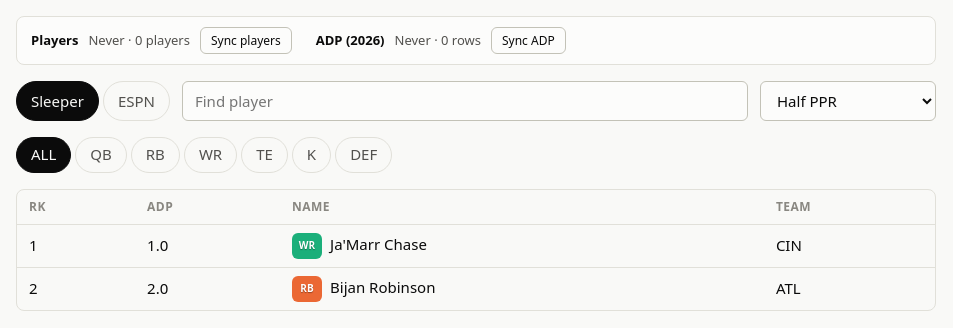
PlayersPage › filters by position client-side without refetching
Check: the text "Ja'Marr Chase" is shown, box [330,233,427,253]
Click the tab "RB". click: x=155, y=155
box: [131,137,180,173]
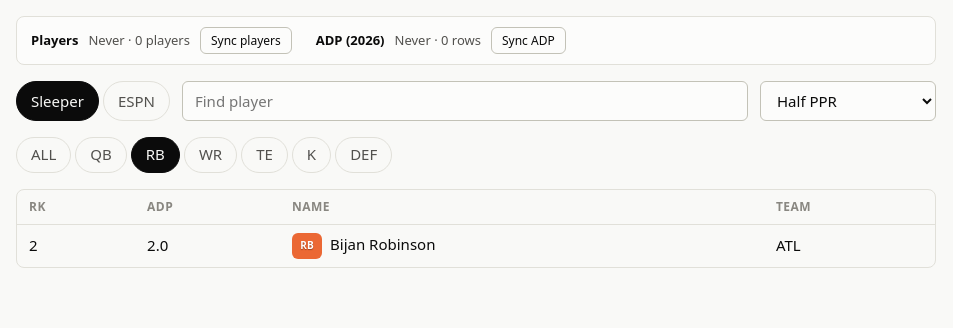
Check: the text "Bijan Robinson" is shown, box [330,233,435,253]
Check: the text "Ja'Marr Chase" is gone
